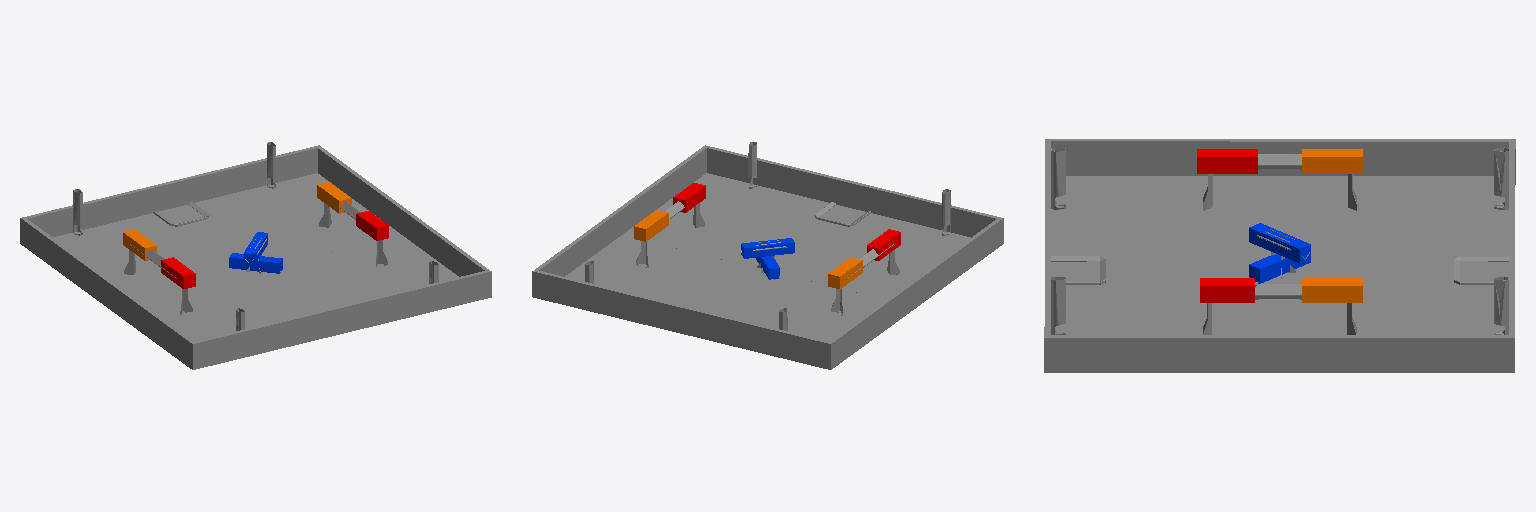
The robot description file, URDF, robot "push_back_field":
<?xml version="1.0"?>
<robot name="push_back_field">

  <!--
    Static visual of the Push Back field, anchored to the map frame.

    This is a standalone description: its single root link IS "map", so RViz
    draws the mesh wherever the map frame lives in TF. It is intentionally NOT
    part of ghost_push_back.urdf.xacro (that tree is rooted at base_link, and a
    URDF may only have one root link).

    No robot_state_publisher is run for this. Load it directly in RViz:
      RobotModel display -> "Description Source: File" -> point at this file
      Fixed Frame: map

    Extra goal boxes live on this same link (origin + box) — no child links,
    so no TF / joint required.
  -->

  <link name="map">
    <visual>
      <origin xyz="1.828 1.828 0" rpy="0 0 1.57"/>
      <geometry>
        <mesh filename="package://ghost_localization/maps/pushBackField.stl"
              scale="0.0254 0.0254 0.0254"/>
      </geometry>
      <material name="field_grey">
        <color rgba="0.6 0.6 0.6 0.6"/>
      </material>
    </visual>

        <!-- long_goal_1_side_1 -->
    <visual>
      <origin xyz="3.025 1.419 0.4" rpy="0 0 1.57"/>
      <geometry>
        <box size="0.433 0.15 0.15"/>
      </geometry>
      <material name="long_goal_1_side_1_mat">
        <color rgba="1 0 0 0.3"/>
      </material>
    </visual>
    <collision>
      <origin xyz="3.025 1.419 0.4" rpy="0 0 1.57"/>
      <geometry>
        <box size="0.481 0.15 0.15"/>
      </geometry>
    </collision>

    <!-- long_goal_1_side_2 -->
    <visual>
      <origin xyz="3.025 2.238 0.4" rpy="0 0 1.57"/>
      <geometry>
        <box size="0.481 0.15 0.15"/>
      </geometry>
      <material name="long_goal_1_side_2_mat">
        <color rgba="1 0.5 0 0.3"/>
      </material>
    </visual>
    <collision>
      <origin xyz="3.025 2.238 0.4" rpy="0 0 1.57"/>
      <geometry>
        <box size="0.481 0.15 0.15"/>
      </geometry>
    </collision>

        <!-- long_goal_2_side_1 -->
    <visual>
      <origin xyz="0.64 1.419 0.4" rpy="0 0 1.57"/>
      <geometry>
        <box size="0.481 0.15 0.15"/>
      </geometry>
      <material name="long_goal_2_side_1_mat">
        <color rgba="1 0 0 0.3"/>
      </material>
    </visual>
    <collision>
      <origin xyz="0.64 1.419 0.4" rpy="0 0 1.57"/>
      <geometry>
        <box size="0.481 0.15 0.15"/>
      </geometry>
    </collision>

    <!-- long_goal_2_side_2 -->
    <visual>
      <origin xyz="0.64 2.238 0.4" rpy="0 0 1.57"/>
      <geometry>
        <box size="0.481 0.15 0.15"/>
      </geometry>
      <material name="long_goal_2_side_2_mat">
        <color rgba="1 0.5 0 0.3"/>
      </material>
    </visual>
    <collision>
      <origin xyz="0.64 2.238 0.4" rpy="0 0 1.57"/>
      <geometry>
        <box size="0.481 0.15 0.15"/>
      </geometry>
    </collision>

    <!-- center_goal_high -->
    <visual>
      <origin xyz="1.828 1.828 0.25" rpy="0 0 0.785398163"/>
      <geometry>
        <box size="0.56 0.125 0.125"/>
      </geometry>
      <material name="center_goal_high_mat">
        <color rgba="0 0.3 1 0.3"/>
      </material>
    </visual>
    <collision>
      <origin xyz="1.828 1.828 0.25" rpy="0 0 0.785398163"/>
      <geometry>
        <box size="0.56 0.125 0.125"/>
      </geometry>
    </collision>
    
    <!-- center_goal_low -->
    <visual>
      <origin xyz="1.828 1.828 0.075" rpy="0 0 -0.785398163"/>
      <geometry>
        <box size="0.56 0.125 0.125"/>
      </geometry>
      <material name="center_goal_low_mat">
        <color rgba="0 0.3 1 0.3"/>
      </material>
    </visual>
    <collision>
      <origin xyz="1.828 1.828 0.075" rpy="0 0 -0.785398163"/>
      <geometry>
        <box size="0.56 0.125 0.125"/>
      </geometry>
    </collision>
  </link>

</robot>

--- Render facts (derived) ---
The picture shows the robot from 3 angles, left to right: view 1: azimuth 30°, elevation 25°; view 2: azimuth 150°, elevation 25°; view 3: azimuth 270°, elevation 25°; orthographic projection.
Robot: push_back_field — 1 links, 0 joints (none); root link map; default pose: all joints at 0.
Links seen in each view (by area): view 1: map; view 2: map; view 3: map.
Link boxes in pixels (x1=…): map: x1=20, y1=142, x2=491, y2=369; map: x1=532, y1=142, x2=1003, y2=369; map: x1=1044, y1=139, x2=1515, y2=372.
Size in the robot's own frame: 3.67 by 3.67 by 0.5127 metres.
1 mesh visuals loaded from 1 distinct referenced files (1 binary STL).
